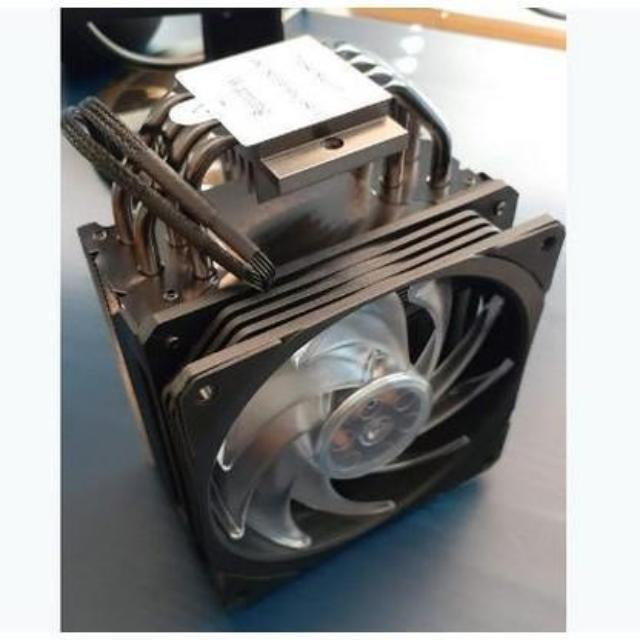CPU_Fan: (76, 42, 536, 582)
